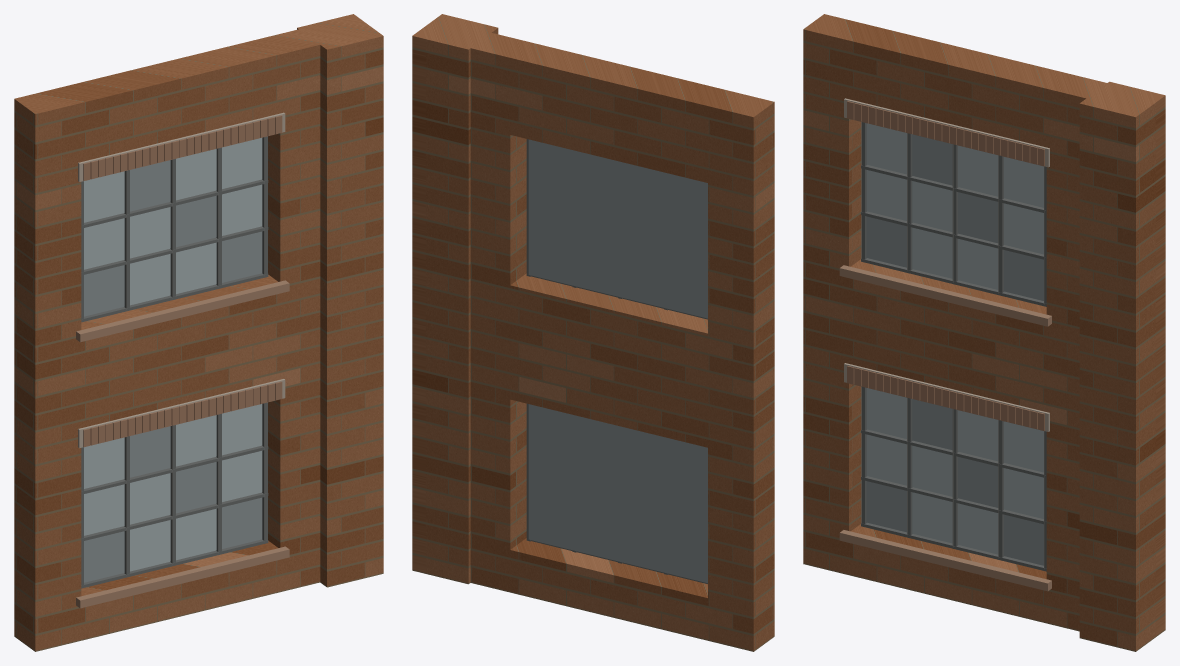
File: pass-apartments-brick-steel-bay-near.glb
3 views of the same model, side by side, from view 1: azimuth 30°, elevation 25°; view 2: azimuth 150°, elevation 25°; view 3: azimuth 330°, elevation 25° (orthographic).
Parts seen in each view (by area): view 1: 派司公寓两层钢窗与临街砖墙垛; view 2: 派司公寓两层钢窗与临街砖墙垛; view 3: 派司公寓两层钢窗与临街砖墙垛.
Part boxes in pixels (x1=…): 派司公寓两层钢窗与临街砖墙垛: x1=14, y1=14, x2=383, y2=651; 派司公寓两层钢窗与临街砖墙垛: x1=412, y1=14, x2=774, y2=651; 派司公寓两层钢窗与临街砖墙垛: x1=803, y1=14, x2=1165, y2=651.
Bounding box in the file's own units: 3.92 × 5.9 × 0.598.
Materials: 8 (1 with a texture image).
